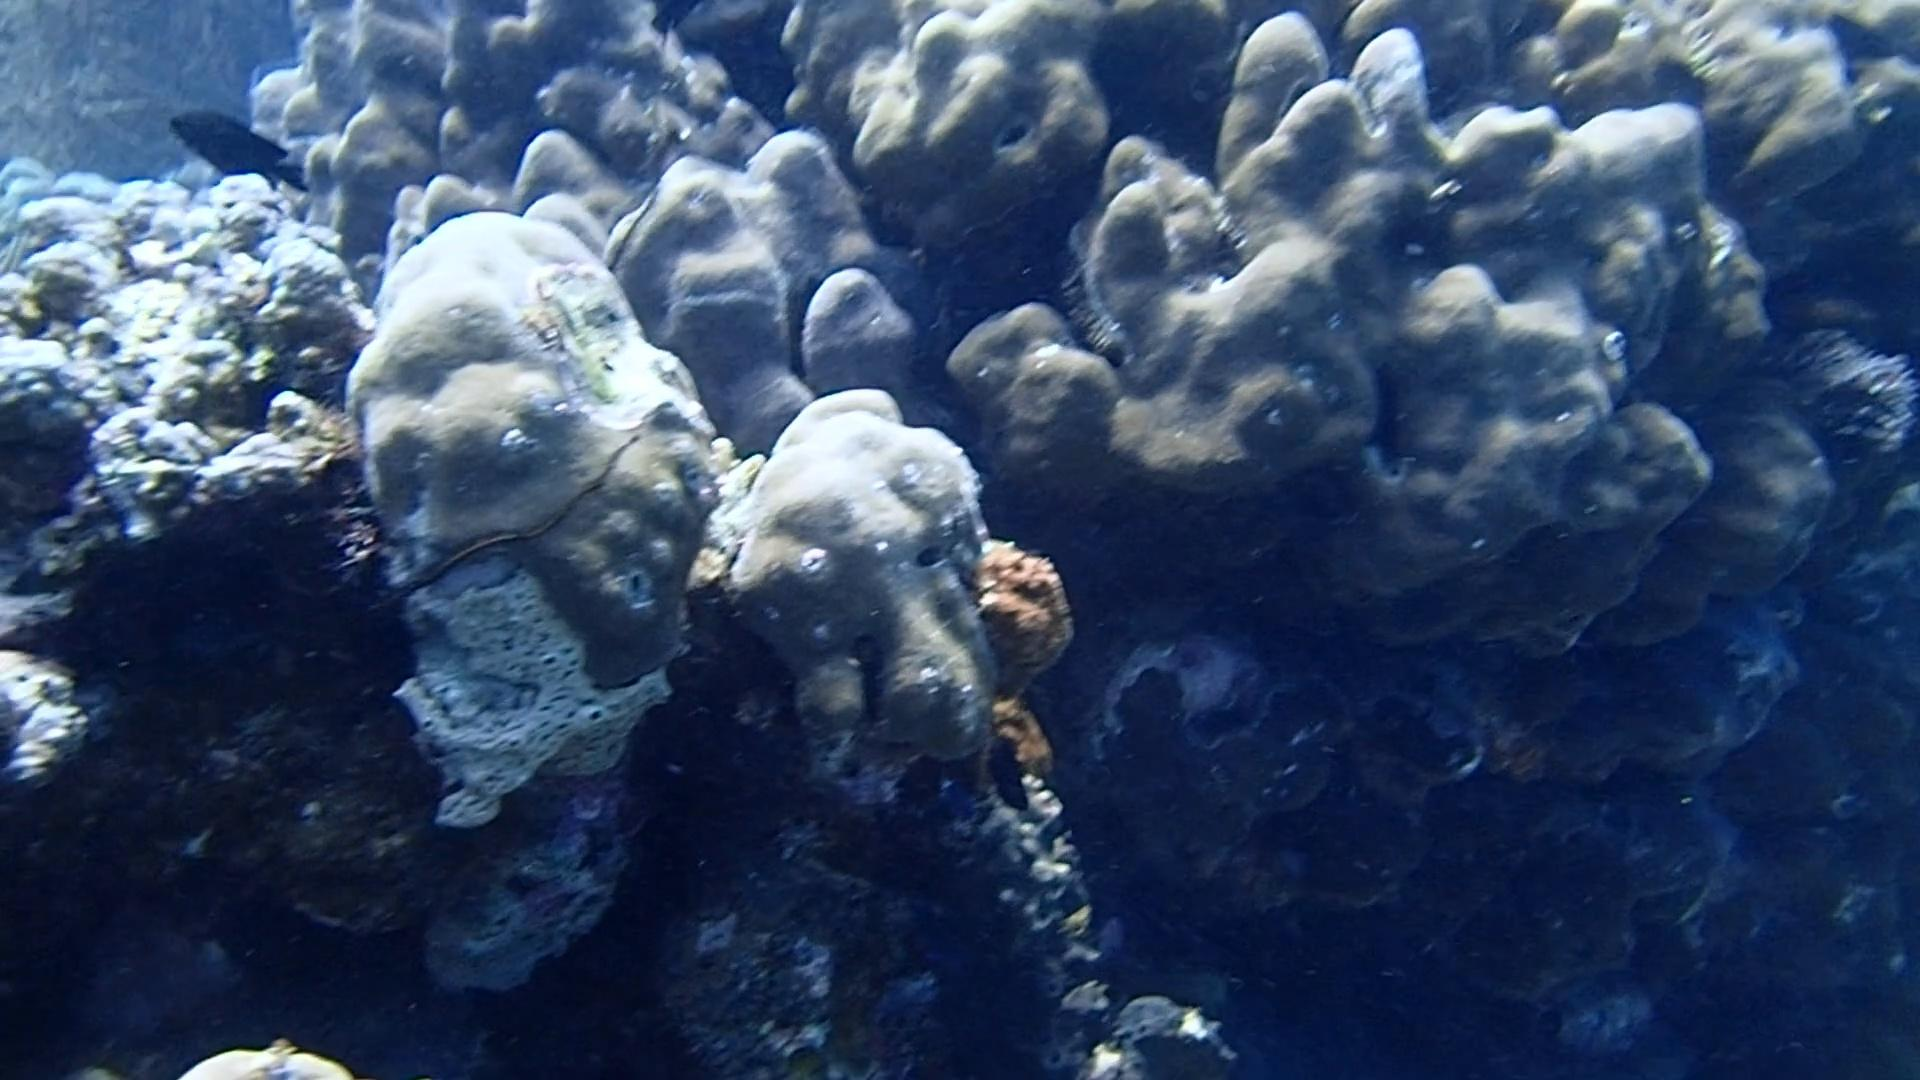Dark Fish: (160, 100, 314, 203), (977, 725, 1046, 820), (1818, 9, 1900, 88)
